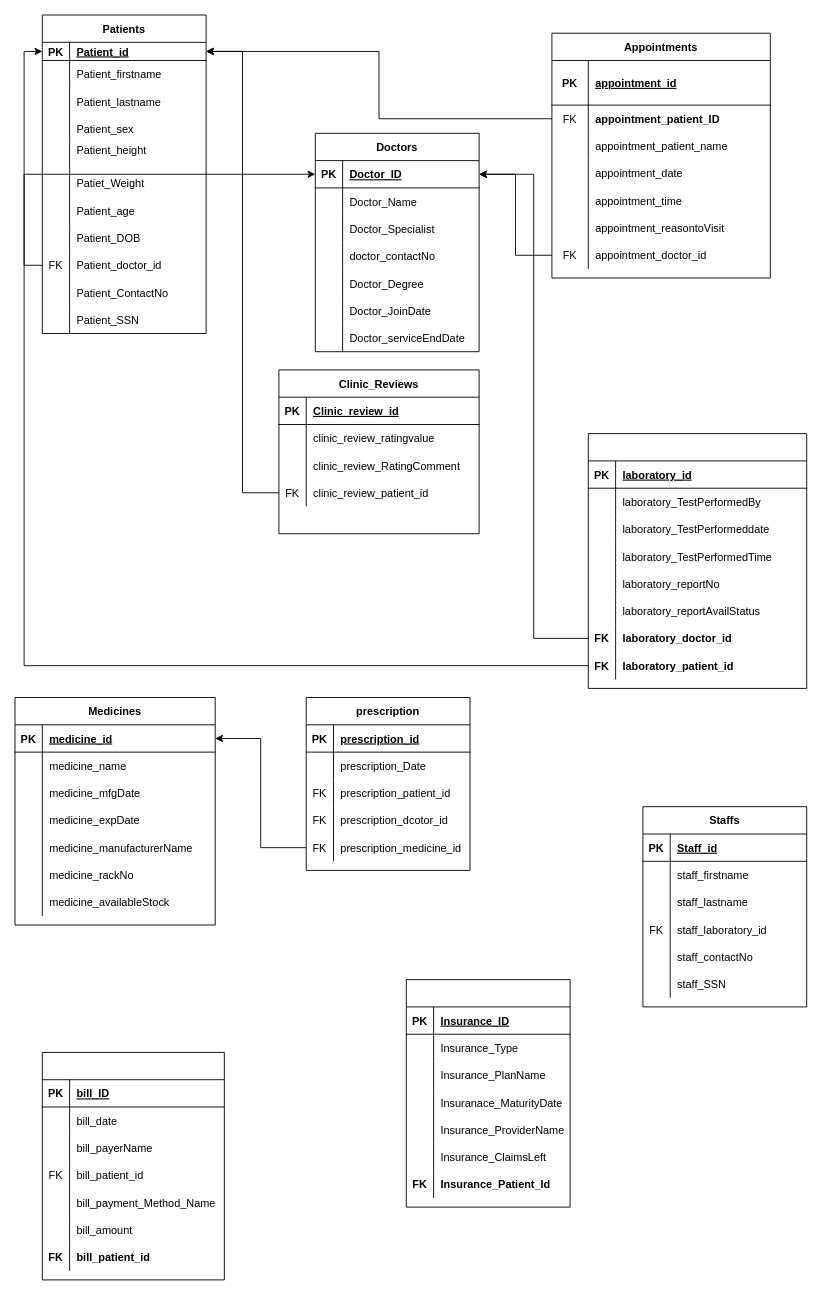
Image size: 822x1295. Some labels were removed from this diagram. Here are the shapes that lost their labels. From the top down, the box of each, then its label:
(587, 433, 807, 688): Laboratories
(405, 979, 570, 1207): Insurances
(41, 1052, 224, 1280): Bills
